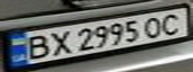2: (72, 25, 96, 53)
5: (121, 18, 145, 43)
9: (90, 22, 112, 50), (106, 20, 127, 46)
B: (18, 33, 54, 61)
C: (157, 11, 190, 35)
O: (139, 14, 169, 38)
X: (45, 28, 75, 57)
